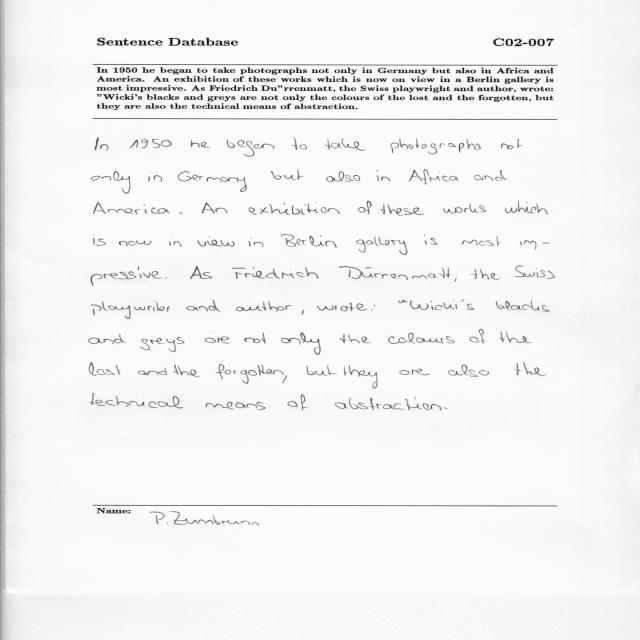word: (339, 266, 451, 280), (335, 397, 442, 411), (390, 139, 481, 155), (178, 171, 247, 192), (91, 266, 162, 286), (216, 364, 287, 384), (92, 301, 170, 319), (90, 394, 183, 409), (248, 202, 340, 215), (232, 267, 318, 279), (93, 202, 170, 215), (356, 236, 407, 255), (281, 332, 321, 355), (92, 171, 131, 194), (227, 140, 275, 157), (344, 365, 378, 389), (281, 234, 337, 248), (409, 170, 459, 185), (388, 333, 455, 344), (141, 337, 185, 352), (410, 300, 474, 310), (496, 300, 549, 312), (236, 301, 292, 312), (505, 201, 548, 215), (325, 138, 366, 151), (381, 204, 425, 216), (515, 266, 555, 279), (448, 365, 489, 377), (206, 402, 266, 410), (317, 303, 368, 312), (89, 362, 121, 376), (514, 362, 546, 376), (129, 139, 172, 149), (443, 204, 486, 214), (198, 236, 235, 247), (499, 331, 532, 343), (186, 300, 221, 311), (462, 236, 500, 246), (327, 171, 361, 182), (89, 334, 126, 344), (271, 170, 304, 181), (474, 170, 507, 181), (173, 365, 201, 377), (288, 394, 309, 410), (471, 269, 500, 280), (202, 203, 228, 214), (190, 266, 212, 279), (340, 334, 371, 343), (521, 240, 550, 249), (315, 365, 337, 376), (469, 329, 485, 344), (138, 368, 168, 376), (501, 139, 522, 150), (244, 333, 266, 343), (292, 137, 307, 150), (119, 241, 151, 247), (399, 369, 430, 375), (95, 137, 108, 151), (205, 337, 230, 344), (358, 201, 371, 214), (191, 140, 210, 148), (377, 170, 390, 181), (93, 235, 106, 246), (148, 172, 162, 182), (170, 237, 182, 248), (424, 235, 437, 245), (307, 366, 315, 375), (254, 242, 264, 247), (248, 238, 252, 247), (399, 300, 408, 303), (371, 305, 375, 310), (454, 277, 457, 282), (301, 310, 304, 315), (444, 407, 447, 409), (180, 212, 182, 214), (166, 277, 167, 279)
